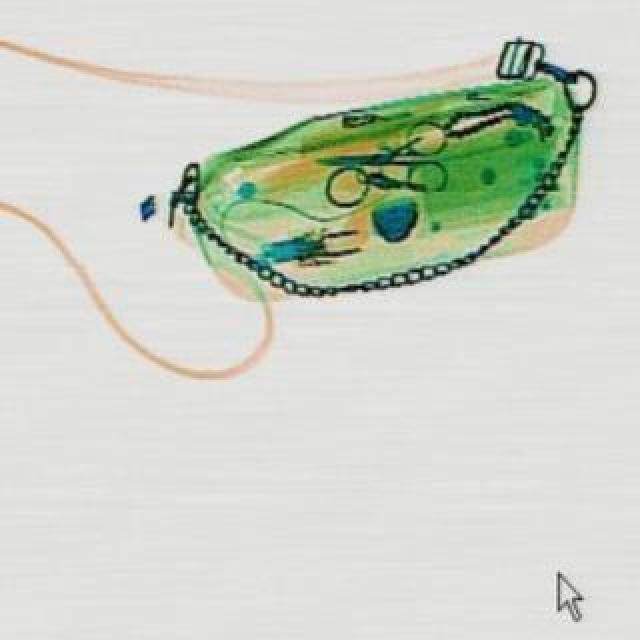pliers: (310, 116, 448, 196)
